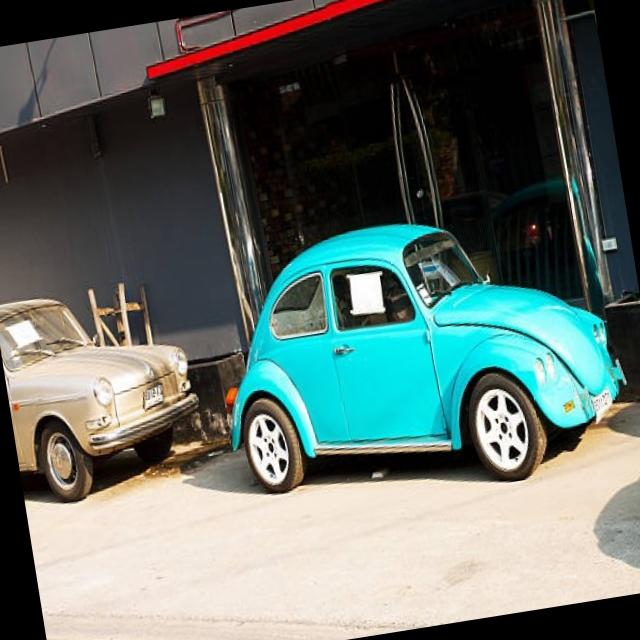car: (202, 194, 635, 506), (0, 275, 207, 504)
